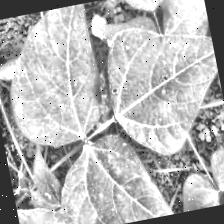ALS: (0, 1, 120, 155), (92, 19, 224, 158), (52, 132, 192, 224), (14, 189, 70, 224)
